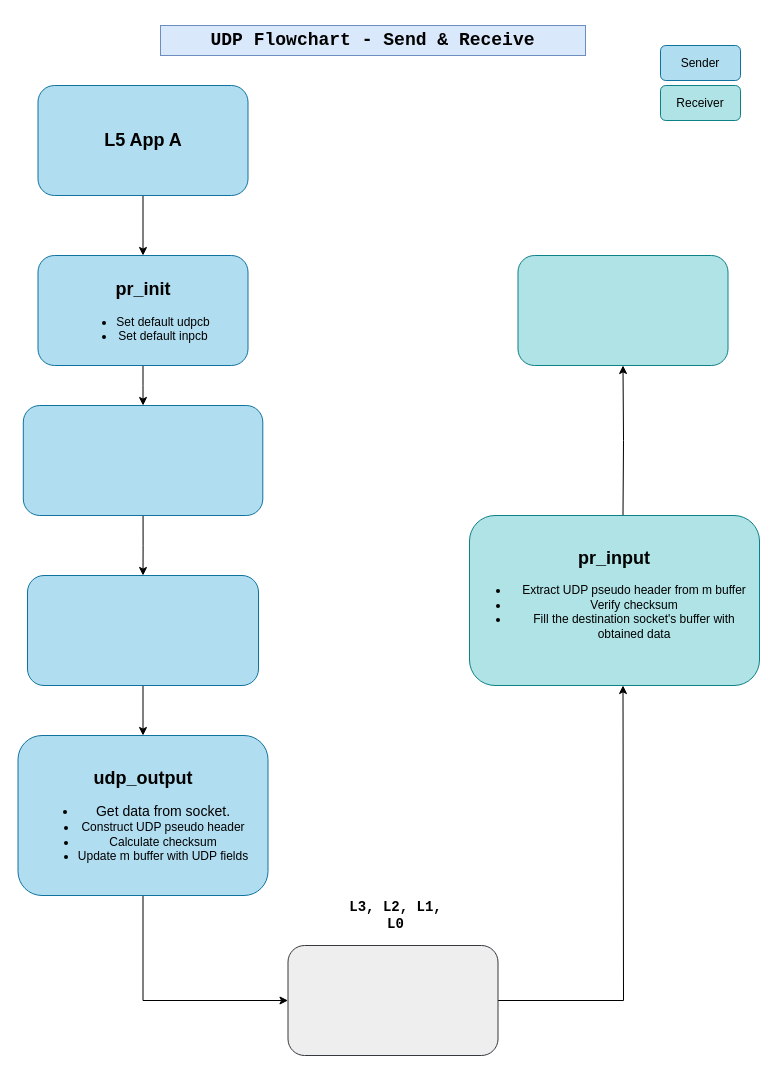
This 777x1073 diagram has some shape labels left out. The centre of each missing label's shape, as x and y in pixels:
"L5 App B" belongs at (622,310).
"pr_output Used as a wrapper for casting result from udp_output." belongs at (142,630).
"pr_userreq Process user request - SEND" belongs at (142,460).
"Underlying layers on sender and receiver" belongs at (392,1000).
